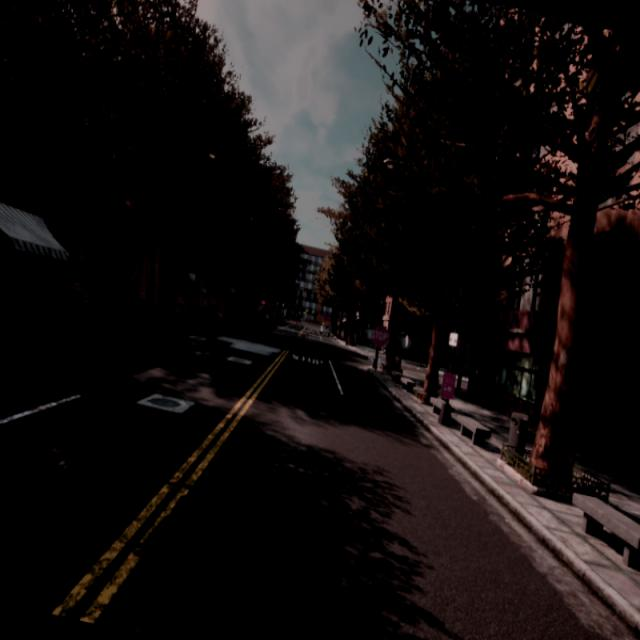stop sign: (366, 321, 391, 371), (368, 324, 390, 349)
